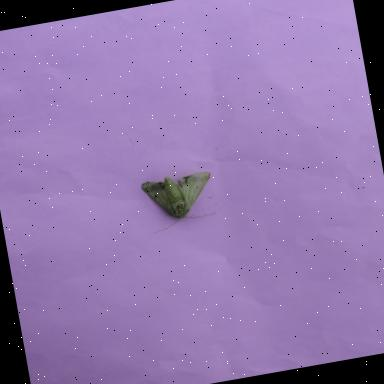abw: (134, 167, 222, 237)
